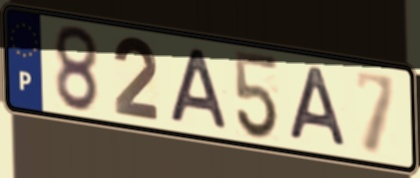2: (111, 34, 162, 126)
5: (232, 47, 281, 143)
7: (353, 68, 398, 157)
8: (52, 23, 101, 115)
A: (165, 45, 231, 133), (286, 63, 350, 151)
